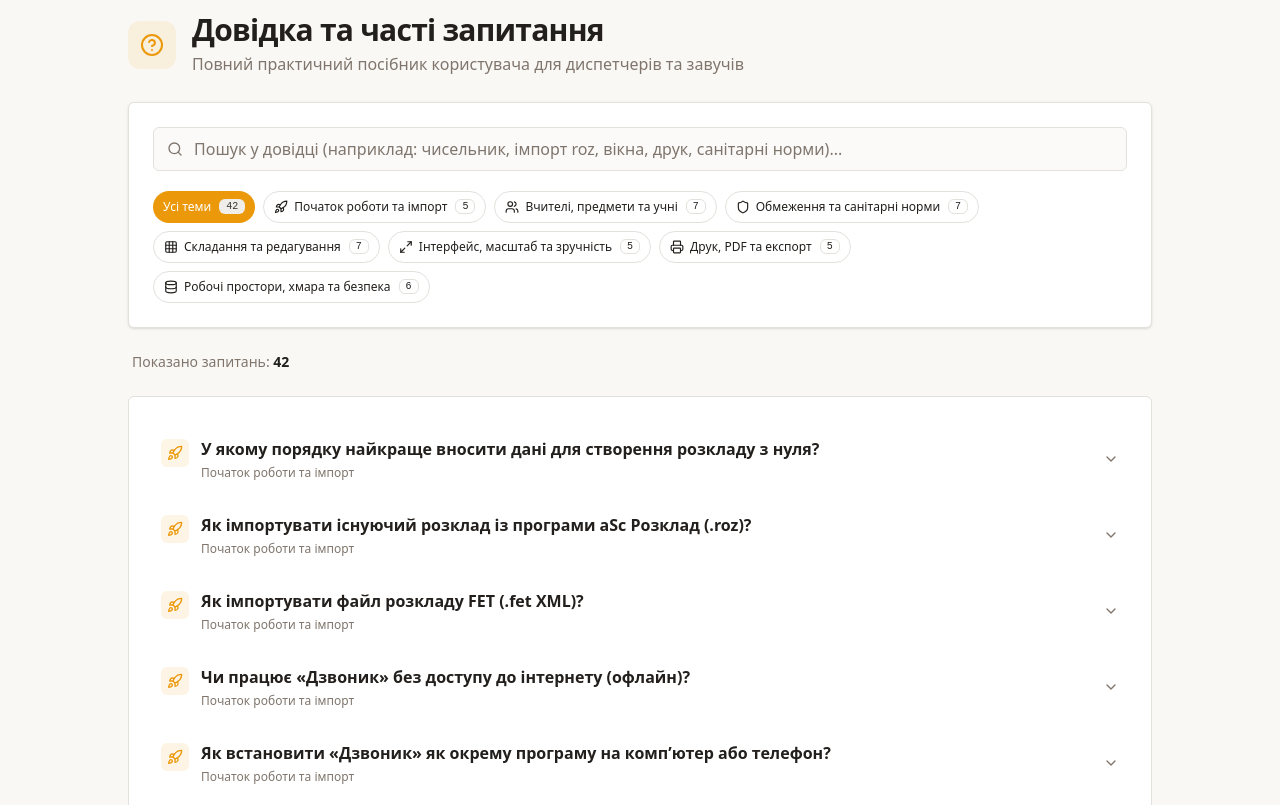
Test case: FAQ Page Component › shows empty state when search returns no matches and allows resetting
Replace the text in the field labelled "Пошук у довідці" with "qwertyuiopasdfghjkl123" at (640, 149), box [153,127,1127,171]
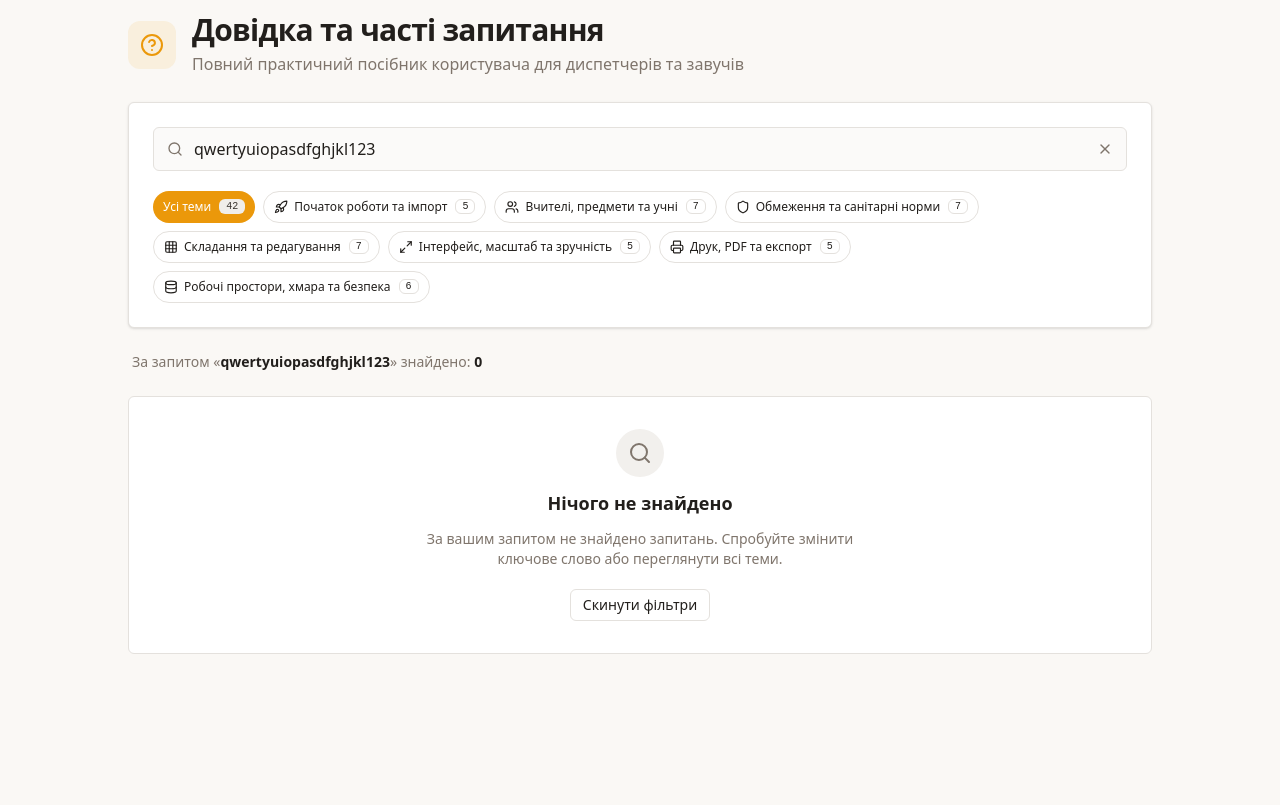
Check: the heading "Нічого не знайдено" is shown, box [548,491,733,515]
Click the button "Скинути фільтри" at (640, 605), box [570,589,710,621]
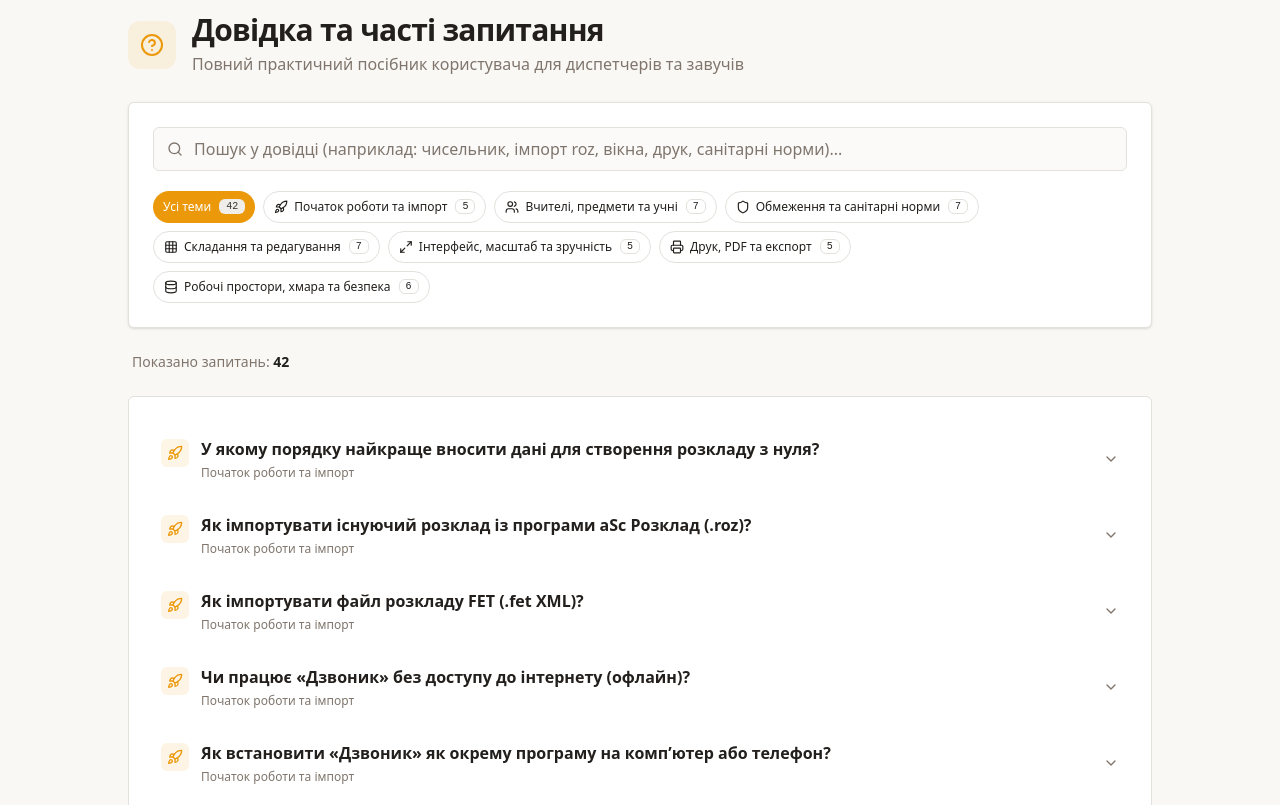
Check: the text "У якому порядку найкраще вносити дані" is shown, box [201,438,820,460]
